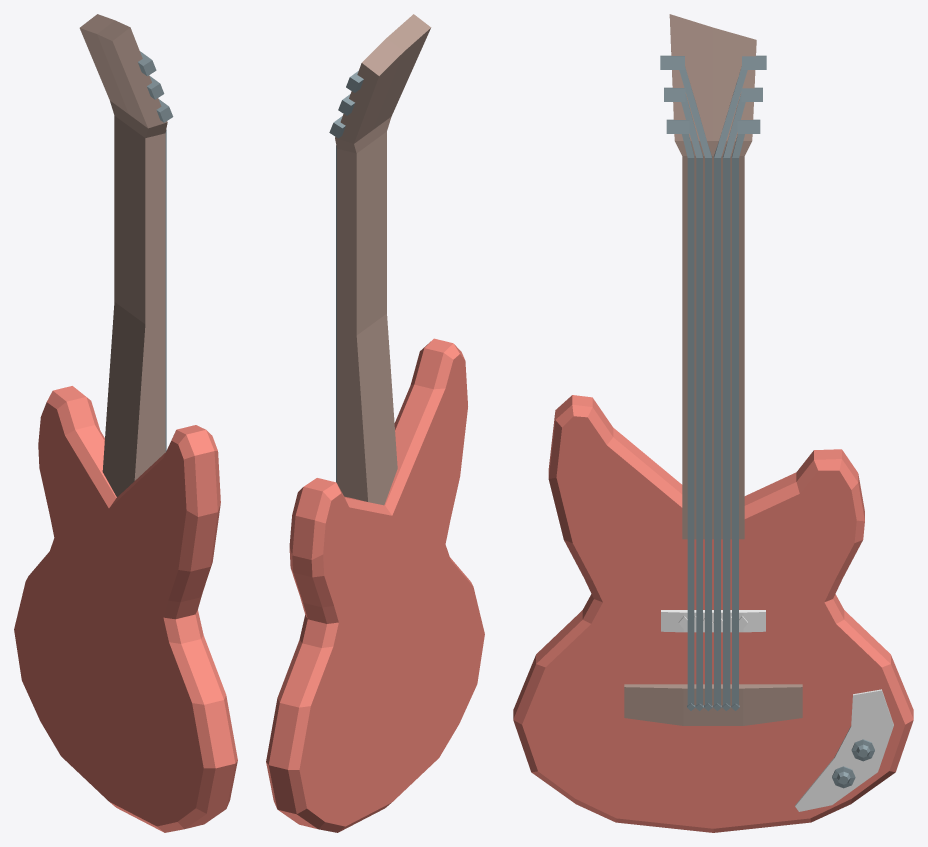
Rendered from Electric_Guitar_01.gltf.
3 renders of one model, left to right at view 1: azimuth 30°, elevation 25°; view 2: azimuth 150°, elevation 25°; view 3: azimuth 270°, elevation 25°, orthographic. The views are drawn at different scales.
Visible parts, largest first — view 1: node-0; view 2: node-0; view 3: node-0.
Part boxes in pixels (x1,y1,x2,y2): node-0: (14,14,237,832); node-0: (266,14,484,832); node-0: (513,14,913,832).
Bounding box in the file's own units: 1.82 × 21.6 × 9.73.
